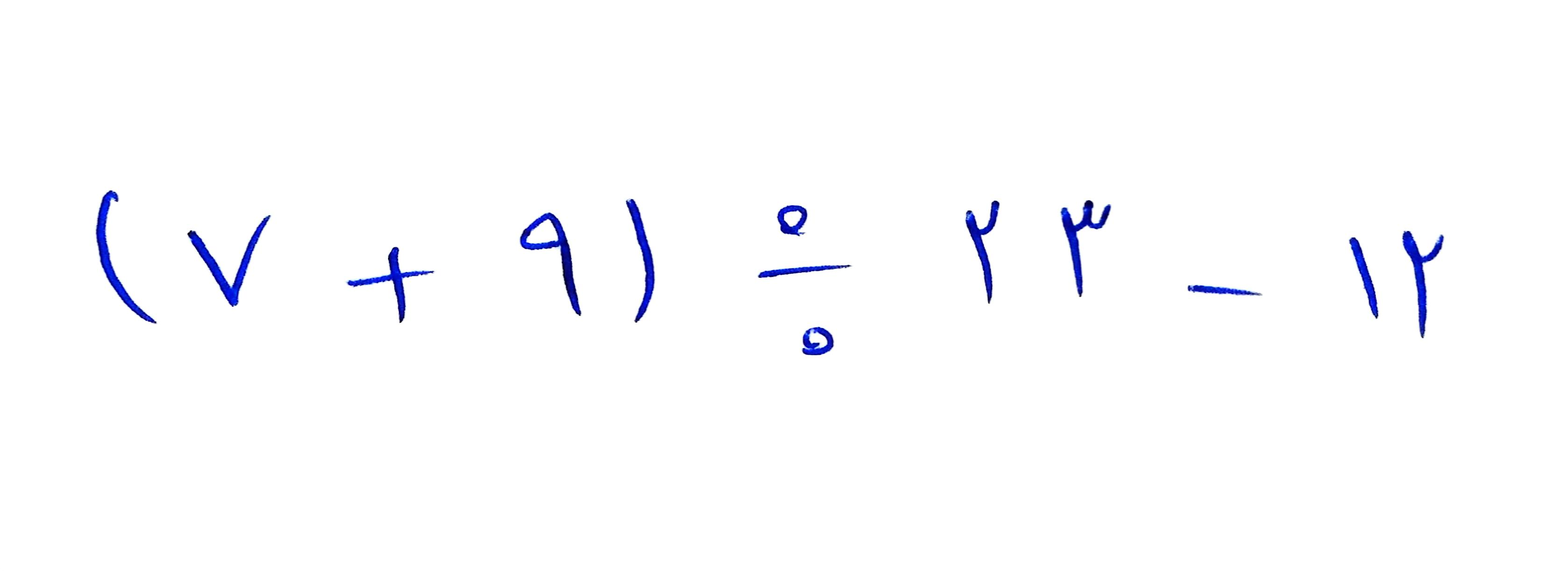character: (759, 204, 850, 355), (98, 190, 159, 326), (188, 213, 272, 307), (349, 243, 436, 326), (521, 212, 581, 314), (1058, 200, 1112, 299), (1404, 231, 1440, 339), (625, 199, 656, 321), (967, 199, 999, 305), (1349, 234, 1377, 314), (1186, 284, 1263, 299)
